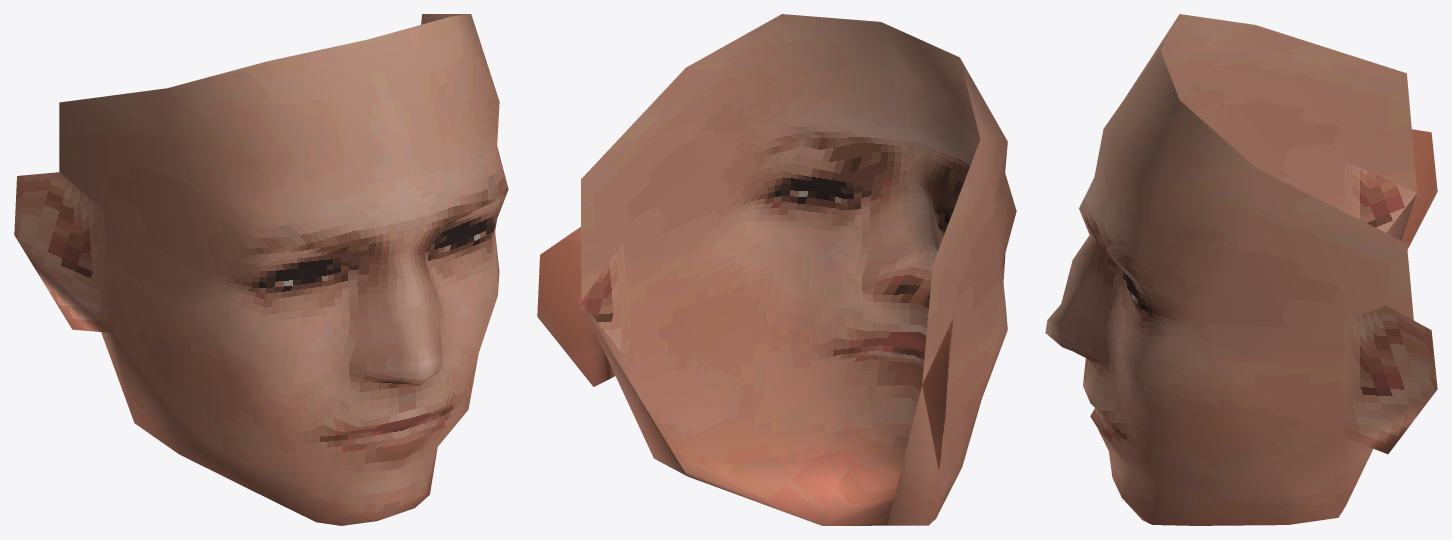
3 renders of one model, left to right at view 1: azimuth 30°, elevation 25°; view 2: azimuth 150°, elevation 25°; view 3: azimuth 270°, elevation 25°, orthographic. The views are drawn at different scales.
Size of the model in its own units: 17.18 by 18.52 by 14.4.
1 material, 1 textured.
